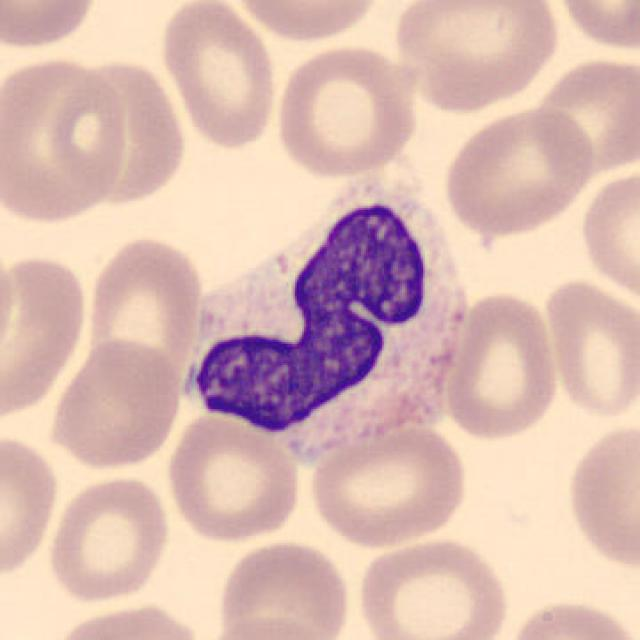Neutrophil: (176, 177, 473, 472)
RBC: (0, 51, 132, 229), (306, 418, 473, 552), (439, 101, 599, 238), (61, 56, 196, 212), (272, 42, 421, 180), (82, 231, 206, 393), (391, 0, 564, 115), (44, 335, 185, 472), (164, 409, 304, 545), (156, 0, 281, 152), (441, 288, 562, 444), (354, 532, 514, 640), (44, 471, 172, 606), (0, 248, 91, 426), (539, 273, 638, 423), (214, 536, 356, 640), (530, 53, 638, 178), (562, 418, 640, 575), (0, 428, 62, 582), (576, 164, 638, 303), (230, 0, 388, 46), (46, 599, 206, 640), (500, 594, 638, 640), (0, 0, 103, 53), (551, 0, 638, 55), (197, 613, 343, 640), (0, 242, 18, 372)
